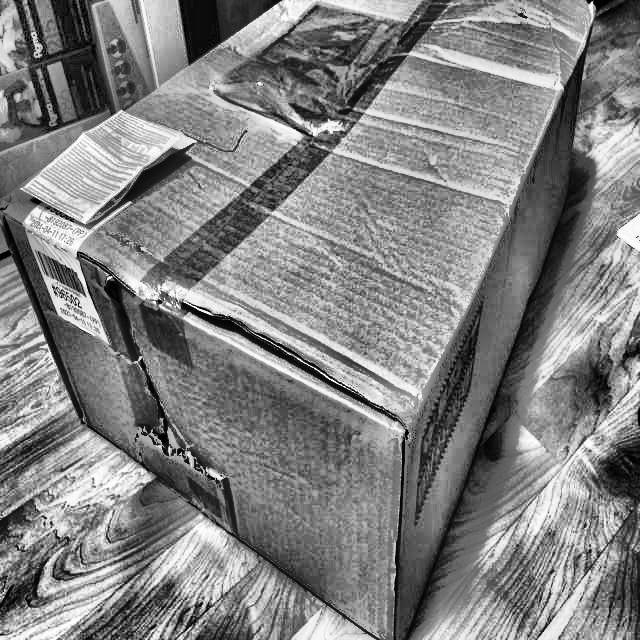box: (0, 0, 602, 639)
hole: (102, 274, 172, 459)
